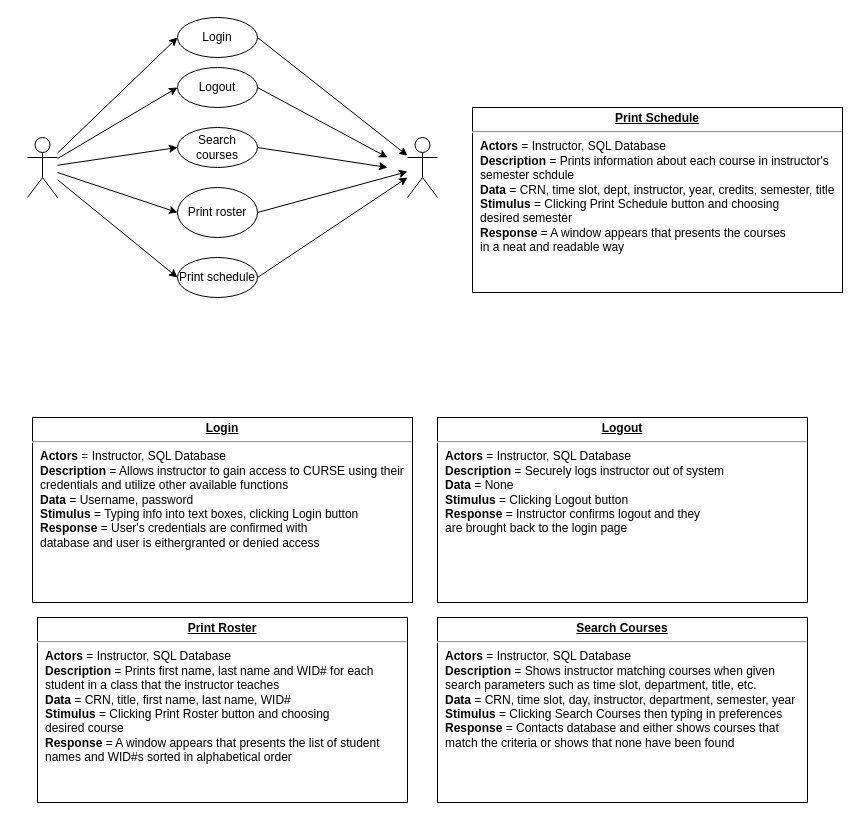
Some shapes in this 860 by 820 pixel diagram are drawn without their labels. The shapes that lost their labels are listed below. From the top down, each one's centre as x and y in pixels, then its label:
(x=42, y=167): Instructor
(x=422, y=167): SQL Database
